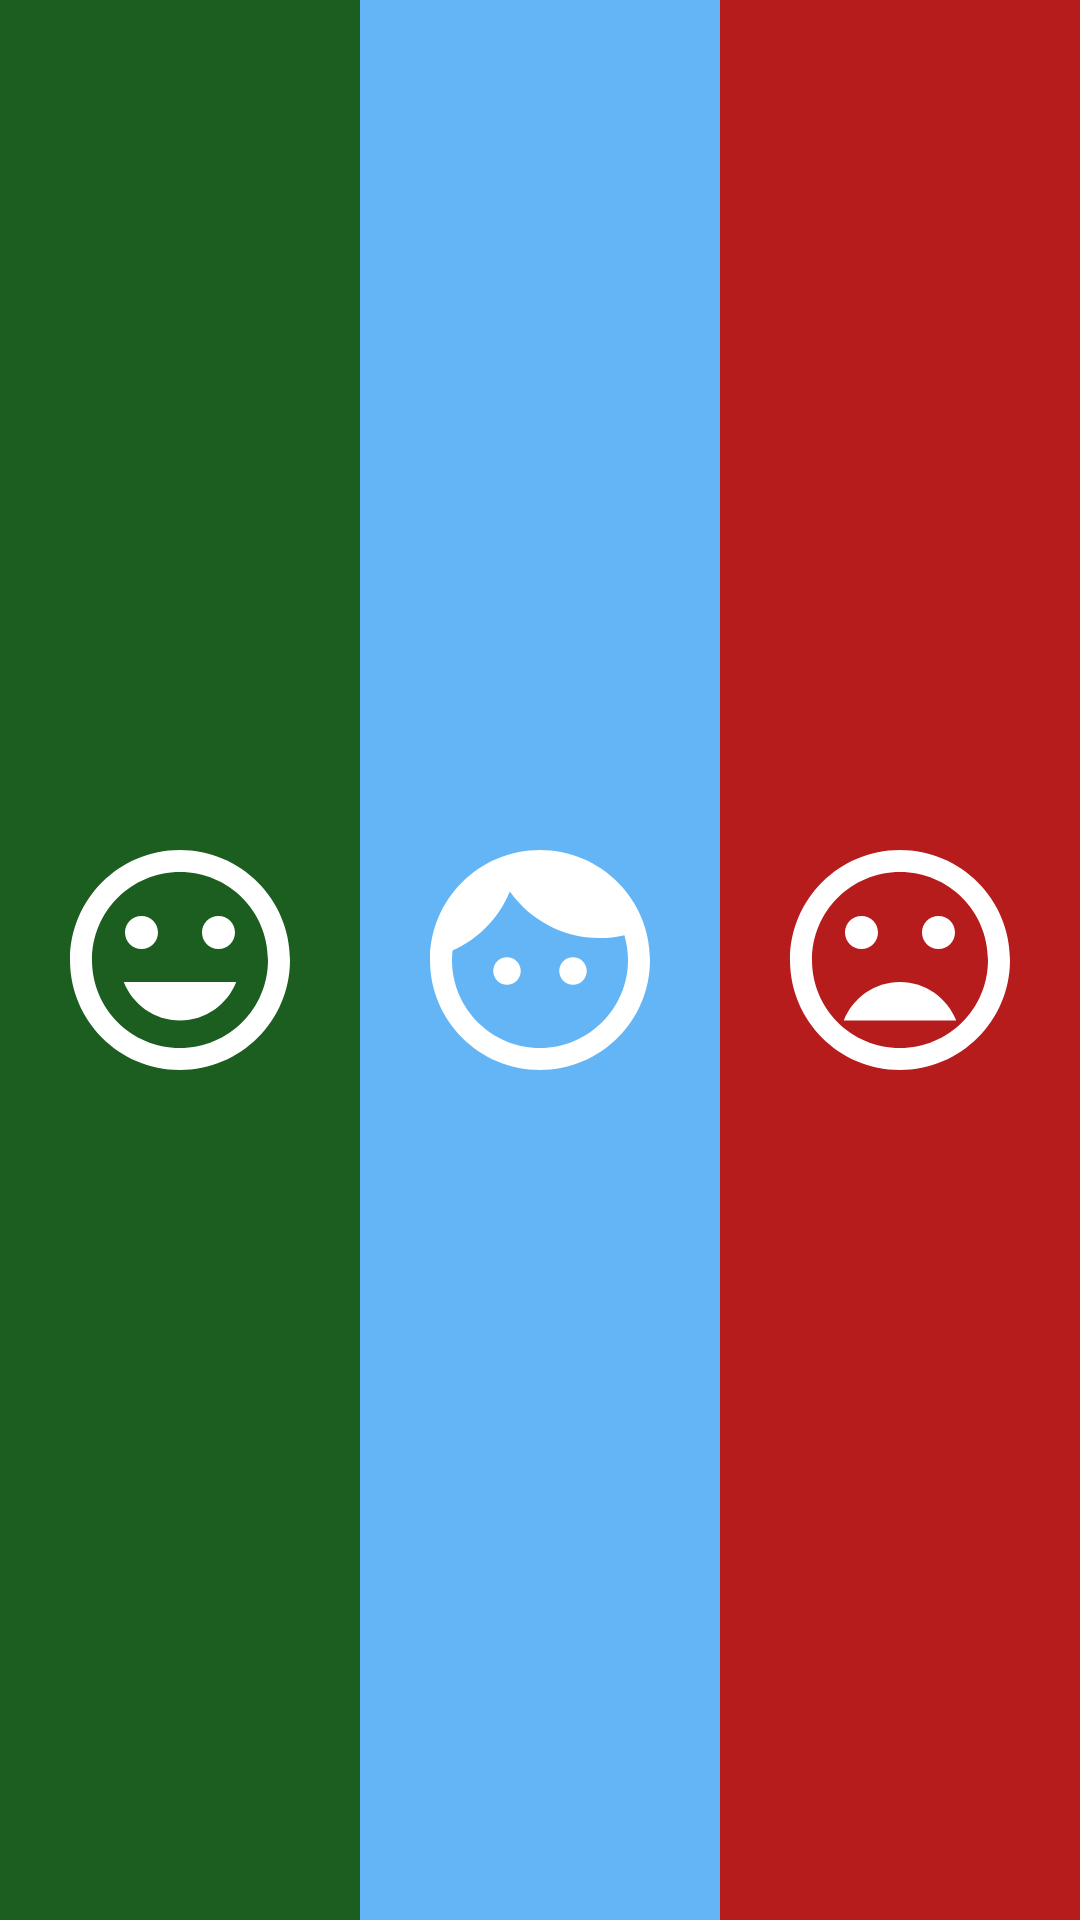

Screen size 1080w x 1920h. Icon name, then its center in pixels as point (x, y):
face: point (540, 960)
mood: point (180, 960)
mood bad: point (900, 960)
